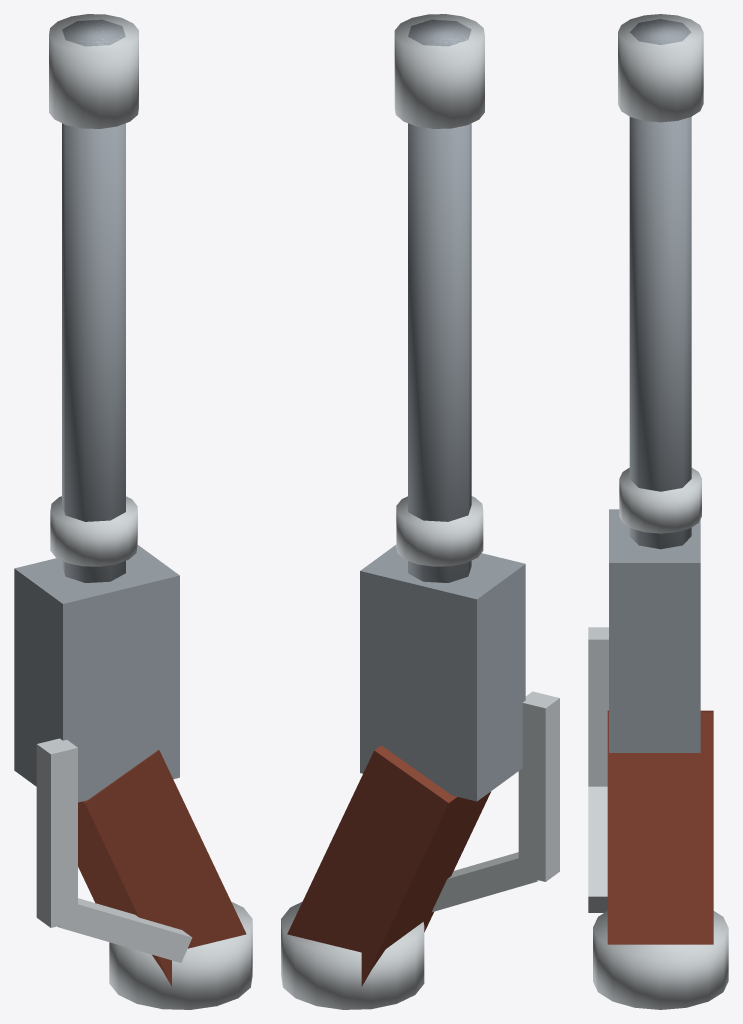
The model's file is pistol-duelist.fbx.
3 views of the same model, side by side, from view 1: azimuth 30°, elevation 25°; view 2: azimuth 150°, elevation 25°; view 3: azimuth 270°, elevation 25° (orthographic). The views are drawn at different scales.
Visible parts, largest first — view 1: PistolDuelist_SlenderLock, PistolDuelist_OctagonalBarrel, PistolDuelist_SweptGrip, PistolDuelist_FlaredMuzzle, PistolDuelist_RoundPommel, PistolDuelist_GuardFront, PistolDuelist_BarrelCollar, PistolDuelist_GuardSweep; view 2: PistolDuelist_SlenderLock, PistolDuelist_OctagonalBarrel, PistolDuelist_SweptGrip, PistolDuelist_RoundPommel, PistolDuelist_FlaredMuzzle, PistolDuelist_GuardFront, PistolDuelist_BarrelCollar, PistolDuelist_GuardSweep; view 3: PistolDuelist_OctagonalBarrel, PistolDuelist_SweptGrip, PistolDuelist_SlenderLock, PistolDuelist_RoundPommel, PistolDuelist_FlaredMuzzle, PistolDuelist_BarrelCollar, PistolDuelist_GuardFront, PistolDuelist_GuardSweep.
Part boxes in pixels (x1,y1,x2,y2): PistolDuelist_SlenderLock: [14, 545, 179, 802]; PistolDuelist_OctagonalBarrel: [62, 19, 125, 582]; PistolDuelist_SweptGrip: [78, 750, 246, 986]; PistolDuelist_FlaredMuzzle: [49, 14, 138, 128]; PistolDuelist_RoundPommel: [109, 902, 252, 1009]; PistolDuelist_GuardFront: [36, 738, 77, 927]; PistolDuelist_BarrelCollar: [50, 496, 137, 566]; PistolDuelist_GuardSweep: [57, 898, 192, 962]; PistolDuelist_SlenderLock: [360, 545, 525, 801]; PistolDuelist_OctagonalBarrel: [408, 19, 471, 582]; PistolDuelist_SweptGrip: [287, 745, 490, 986]; PistolDuelist_RoundPommel: [281, 902, 424, 1009]; PistolDuelist_FlaredMuzzle: [394, 14, 484, 128]; PistolDuelist_GuardFront: [518, 691, 559, 881]; PistolDuelist_BarrelCollar: [396, 496, 483, 566]; PistolDuelist_GuardSweep: [432, 852, 538, 911]; PistolDuelist_OctagonalBarrel: [629, 19, 691, 549]; PistolDuelist_SweptGrip: [607, 710, 713, 944]; PistolDuelist_SlenderLock: [609, 509, 700, 752]; PistolDuelist_RoundPommel: [593, 911, 728, 1009]; PistolDuelist_FlaredMuzzle: [618, 14, 703, 122]; PistolDuelist_BarrelCollar: [619, 468, 701, 533]; PistolDuelist_GuardFront: [588, 627, 608, 786]; PistolDuelist_GuardSweep: [588, 786, 607, 912].
Bounding box in the file's own units: 0.085 × 0.34 × 0.0475.
